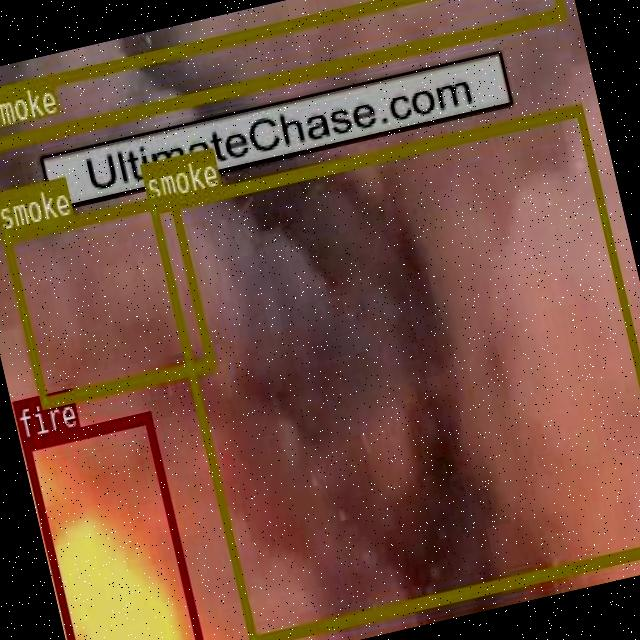fire: (20, 410, 207, 640)
smoke: (147, 102, 640, 640), (0, 0, 563, 148), (0, 192, 213, 405)
